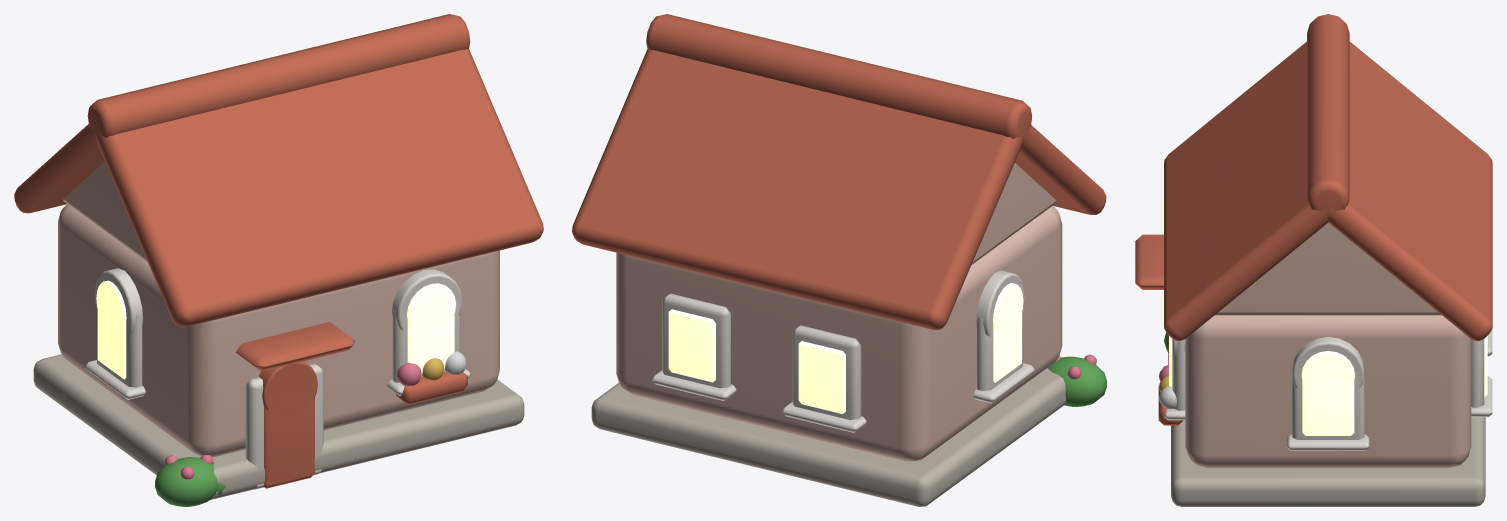
3 views of the same model, side by side, from view 1: azimuth 30°, elevation 25°; view 2: azimuth 150°, elevation 25°; view 3: azimuth 270°, elevation 25° (orthographic). The views are drawn at different scales.
Parts seen in each view (by area): view 1: Cube; view 2: Cube; view 3: Cube.
Boxes of the visible parts, bbox=[...] form: Cube: bbox=[14, 14, 543, 506]; Cube: bbox=[572, 14, 1106, 506]; Cube: bbox=[1135, 14, 1492, 506].
Bounding box in the file's own units: 0.5818 × 0.525 × 0.4999.
